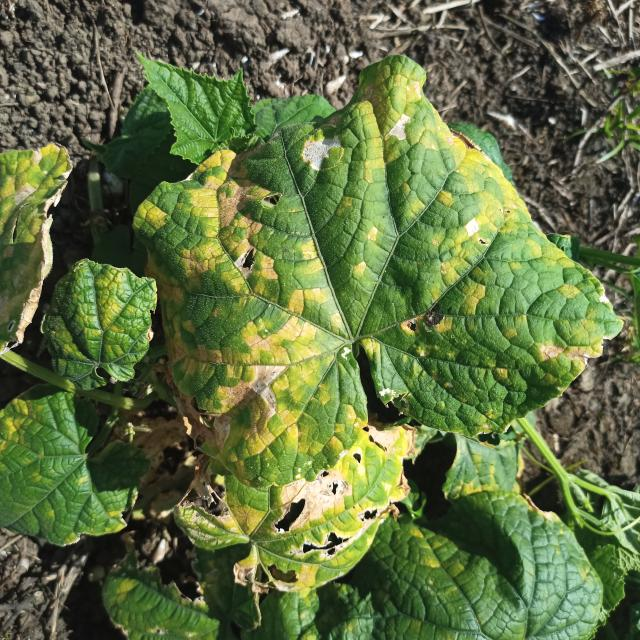disease_cucumber: (152, 59, 611, 572)
